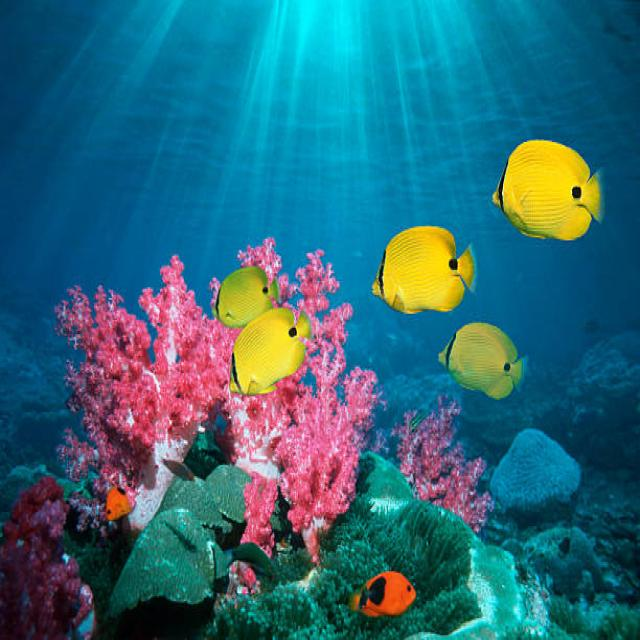ButterflyFish: (493, 142, 605, 242), (370, 224, 480, 319), (227, 310, 312, 402), (436, 322, 528, 402), (214, 265, 278, 324)
